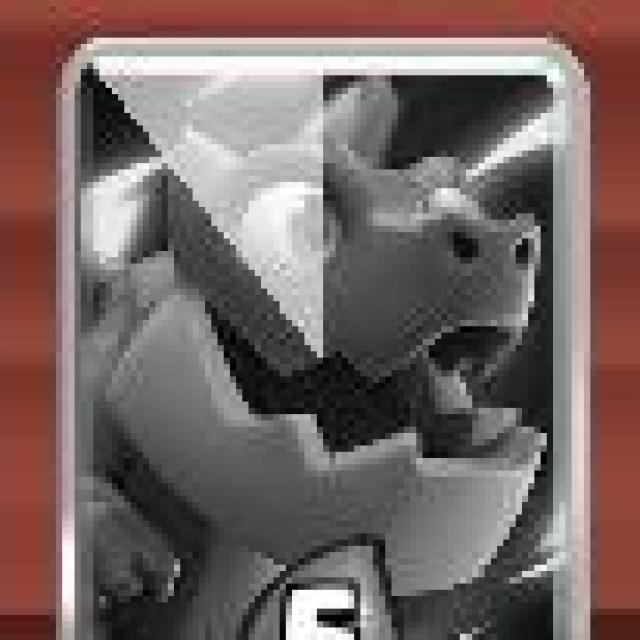Electro_Dragon: (55, 30, 592, 640)
